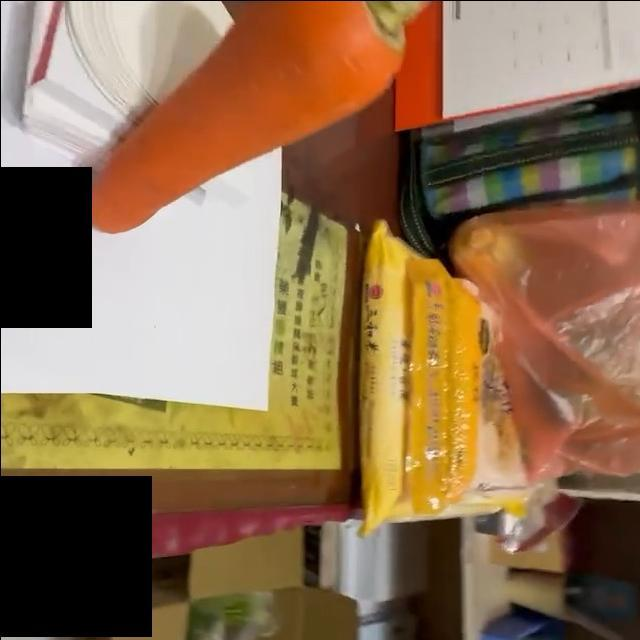carrot: (79, 1, 431, 238)
